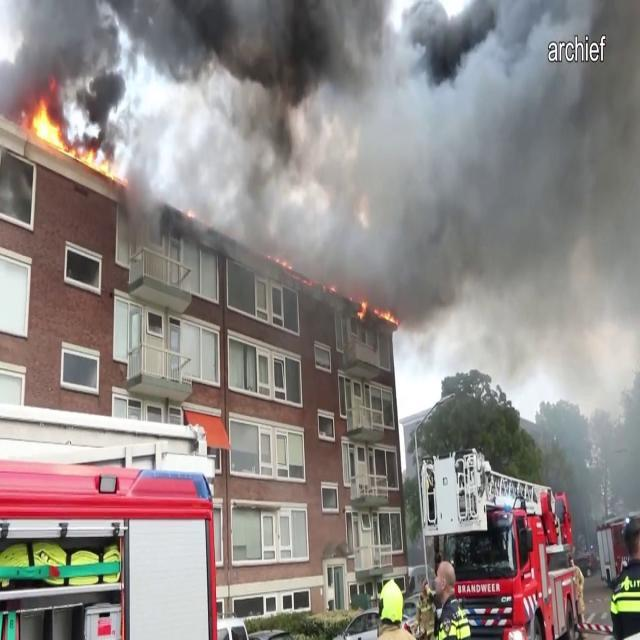Fire: (25, 97, 71, 152)
Smoke: (128, 0, 640, 338), (0, 0, 352, 200)
